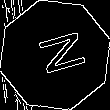N_W: (25, 28, 85, 82)
